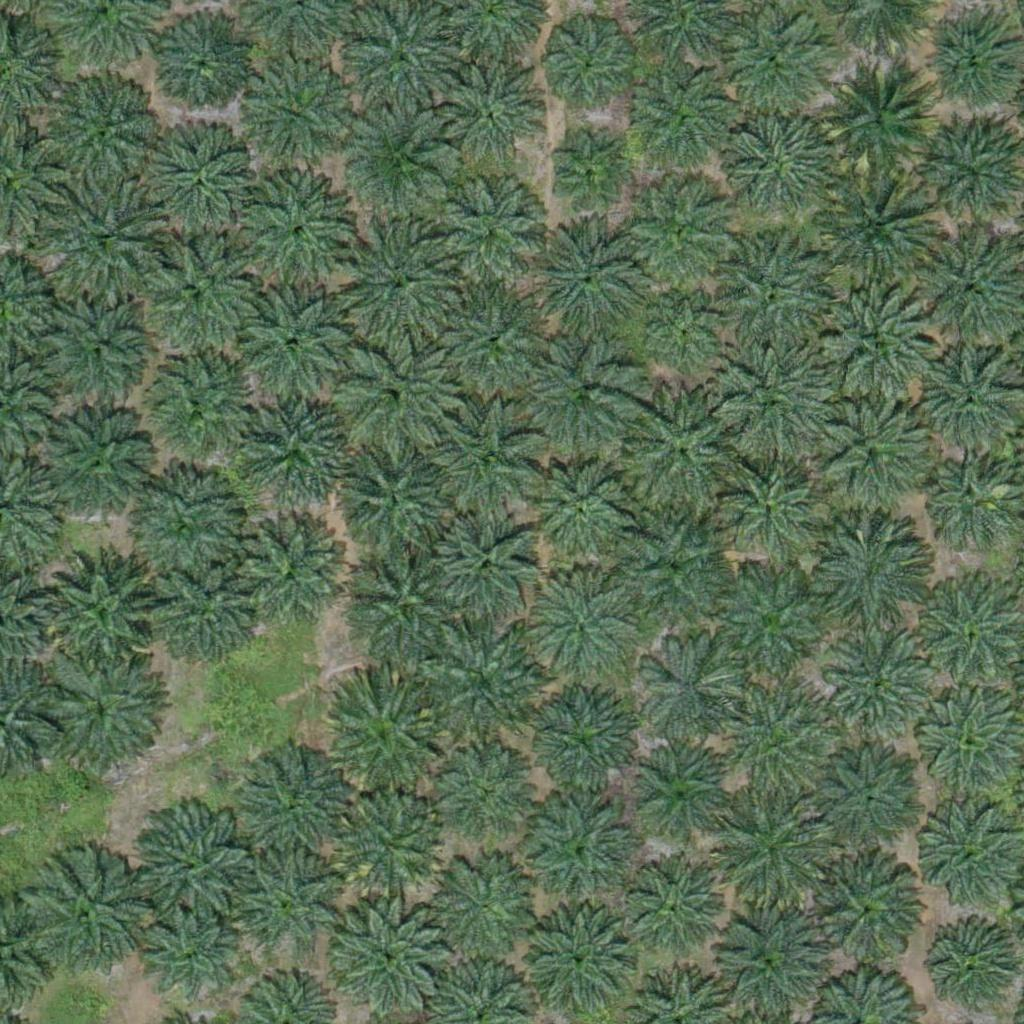Kelapa_Sawit: (40, 72, 165, 198), (124, 234, 249, 360), (37, 545, 162, 671), (41, 649, 166, 775), (334, 219, 459, 345), (330, 334, 455, 460), (626, 390, 751, 516), (712, 237, 837, 363), (128, 803, 253, 929), (22, 856, 147, 982), (129, 345, 254, 470), (118, 463, 243, 588), (321, 678, 446, 803), (717, 112, 830, 226), (435, 285, 548, 399), (432, 178, 545, 292), (808, 743, 921, 857), (343, 106, 456, 219), (237, 60, 350, 173), (38, 408, 151, 521), (39, 294, 152, 407), (52, 179, 165, 292), (144, 553, 257, 666), (431, 510, 544, 623), (428, 406, 541, 519), (527, 690, 640, 803), (718, 342, 831, 455), (812, 519, 925, 632), (815, 399, 928, 512), (820, 295, 933, 408), (517, 901, 630, 1014), (335, 897, 448, 1010), (527, 226, 639, 340), (529, 340, 641, 454), (617, 519, 729, 633), (712, 570, 824, 684), (826, 629, 938, 743), (808, 851, 920, 965), (717, 790, 829, 904), (826, 66, 938, 179), (154, 129, 266, 242), (235, 516, 347, 629), (242, 391, 354, 504), (234, 288, 346, 401), (239, 178, 351, 291), (339, 448, 451, 561), (346, 546, 458, 659), (428, 633, 540, 746), (716, 690, 828, 803), (821, 171, 933, 284), (710, 909, 822, 1022), (426, 849, 538, 962), (442, 64, 542, 165), (154, 15, 254, 116), (535, 575, 635, 676), (629, 746, 729, 847), (629, 188, 729, 289), (922, 444, 1022, 545), (922, 805, 1022, 906), (622, 857, 722, 958), (530, 799, 630, 900), (433, 742, 533, 843), (339, 792, 439, 893), (249, 754, 349, 855), (237, 852, 337, 953), (139, 905, 239, 1006), (726, 7, 826, 107), (634, 67, 734, 167), (528, 458, 628, 558), (635, 643, 735, 743), (721, 454, 821, 554), (545, 23, 633, 111), (548, 138, 623, 214), (650, 297, 725, 373)
